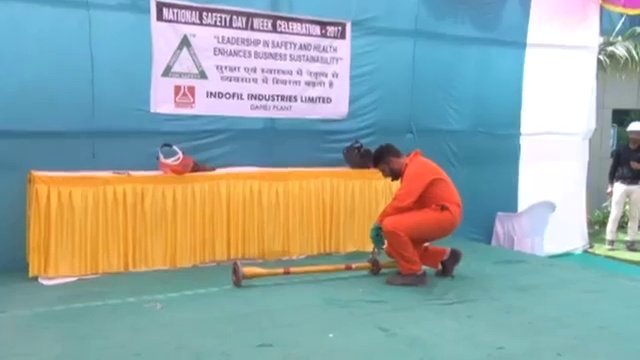helmet: (624, 119, 640, 133)
helmet_off: (372, 141, 405, 182)
helmet_on: (624, 118, 640, 145)
person: (360, 137, 465, 285), (606, 118, 640, 251)
